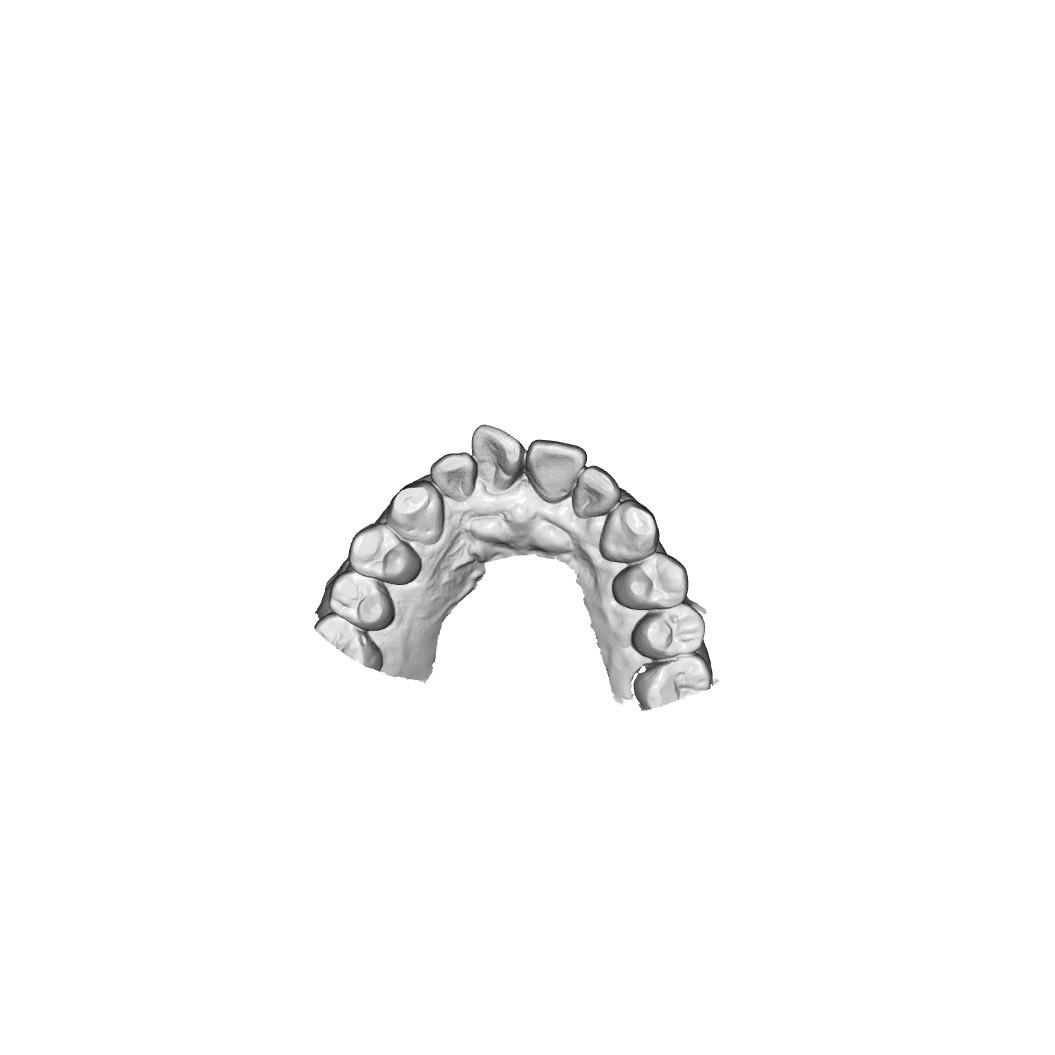canine: (598, 498, 661, 564), (389, 480, 446, 547)
incisor: (469, 421, 528, 495), (525, 439, 584, 503), (570, 466, 616, 520), (432, 450, 480, 501)
premolar: (611, 552, 690, 614), (348, 522, 421, 585), (628, 604, 704, 661), (327, 568, 395, 631)
